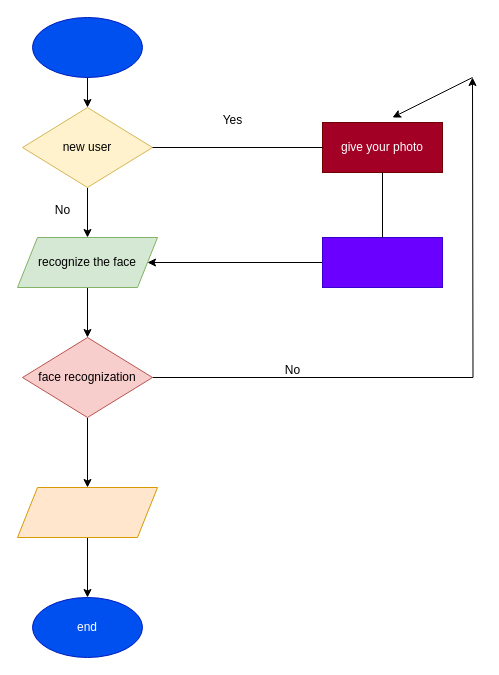
Some shapes in this 499 by 675 pixel diagram are drawn without their labels. The centre of each missing label's shape, as x and y in pixels:
"start" goes at (87,47).
"store in csv file with registration number" goes at (87,512).
"store the face data folder on your name" goes at (382,262).
